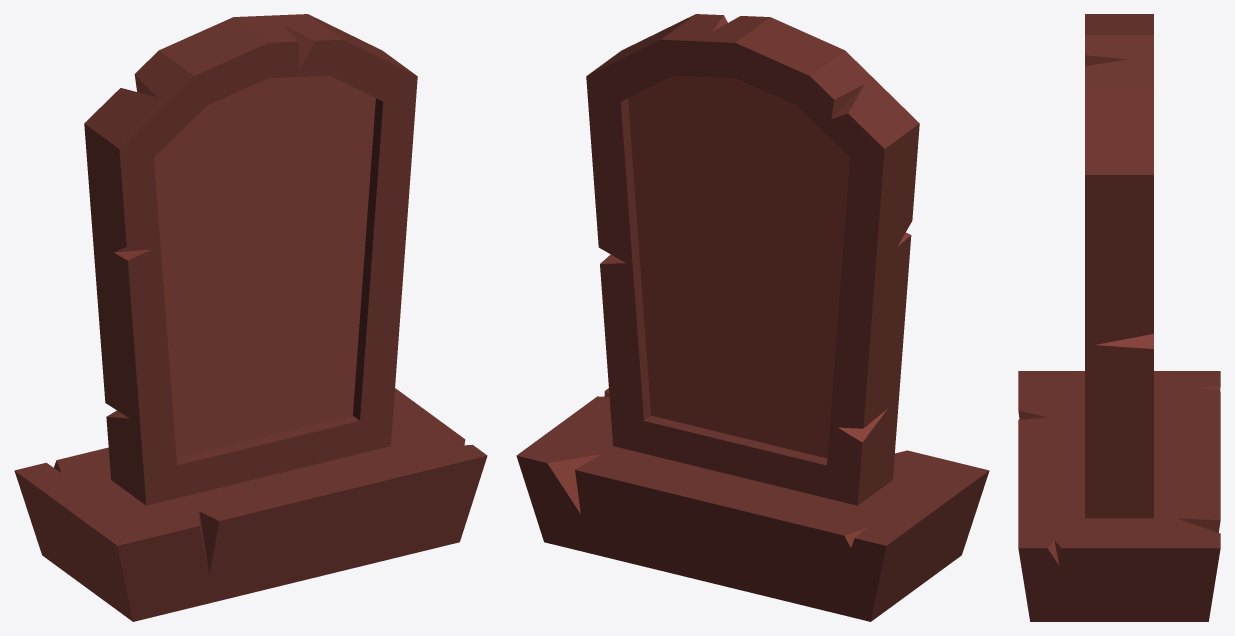
Rendered from Tombstone_1_Red.fbx.
3 views of the same model, side by side, from view 1: azimuth 30°, elevation 25°; view 2: azimuth 150°, elevation 25°; view 3: azimuth 270°, elevation 25° (orthographic).
Parts seen in each view (by area): view 1: Tombstone_1_Red_Part_1, Tombstone_1_Red_Part_2; view 2: Tombstone_1_Red_Part_1, Tombstone_1_Red_Part_2; view 3: Tombstone_1_Red_Part_1, Tombstone_1_Red_Part_2.
Part boxes in pixels (x1,y1,x2,y2): Tombstone_1_Red_Part_1: (14, 14, 487, 621); Tombstone_1_Red_Part_2: (54, 25, 465, 574); Tombstone_1_Red_Part_1: (516, 14, 989, 621); Tombstone_1_Red_Part_2: (547, 15, 910, 547); Tombstone_1_Red_Part_1: (1018, 14, 1220, 621); Tombstone_1_Red_Part_2: (1018, 55, 1220, 565).
Size of the model in its own units: 89.31 by 120 by 43.1.
